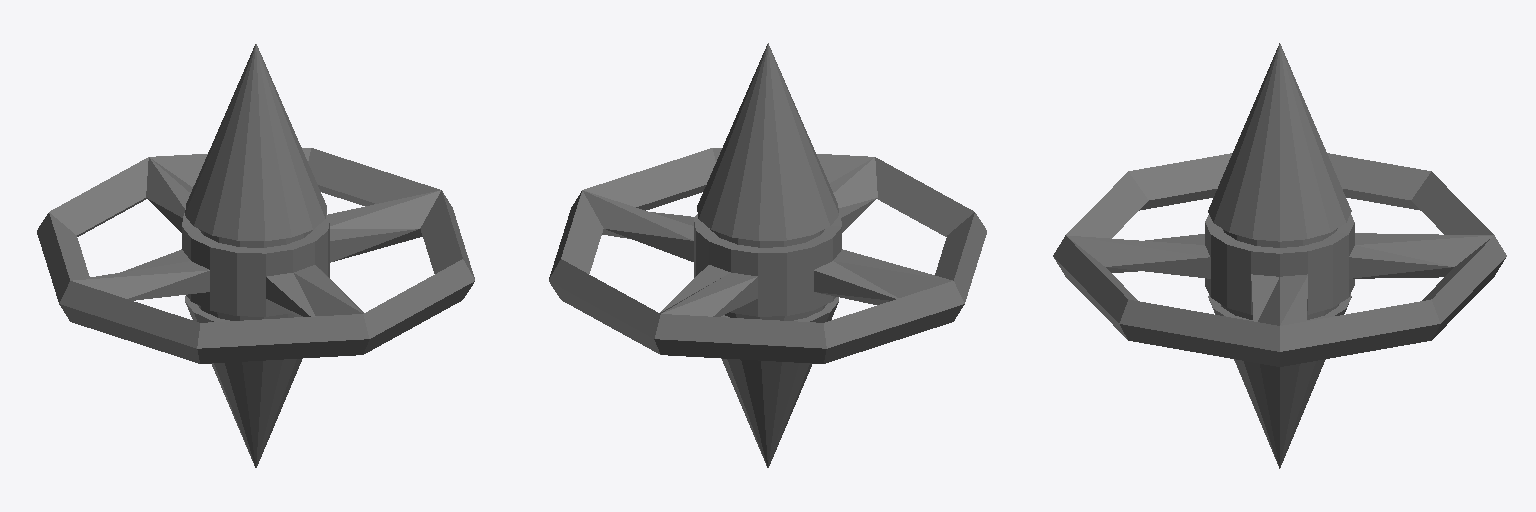
File: Happy_base.obj
3 renders of one model, left to right at view 1: azimuth 30°, elevation 25°; view 2: azimuth 150°, elevation 25°; view 3: azimuth 270°, elevation 25°, orthographic.
Parts seen in each view (by area): view 1: Happy_Base:pCylinder2; view 2: Happy_Base:pCylinder2; view 3: Happy_Base:pCylinder2.
Part boxes in pixels (left/top/right/bottom): Happy_Base:pCylinder2: left=37, top=44, right=474, bottom=467; Happy_Base:pCylinder2: left=549, top=43, right=986, bottom=467; Happy_Base:pCylinder2: left=1053, top=43, right=1506, bottom=468.
Bounding box in the file's own units: 4.36 × 4.52 × 4.36.